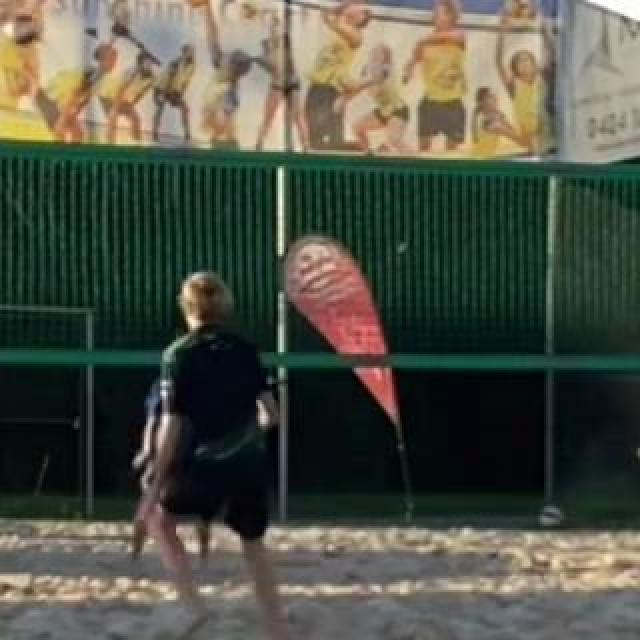volleyball: (9, 13, 41, 51)
